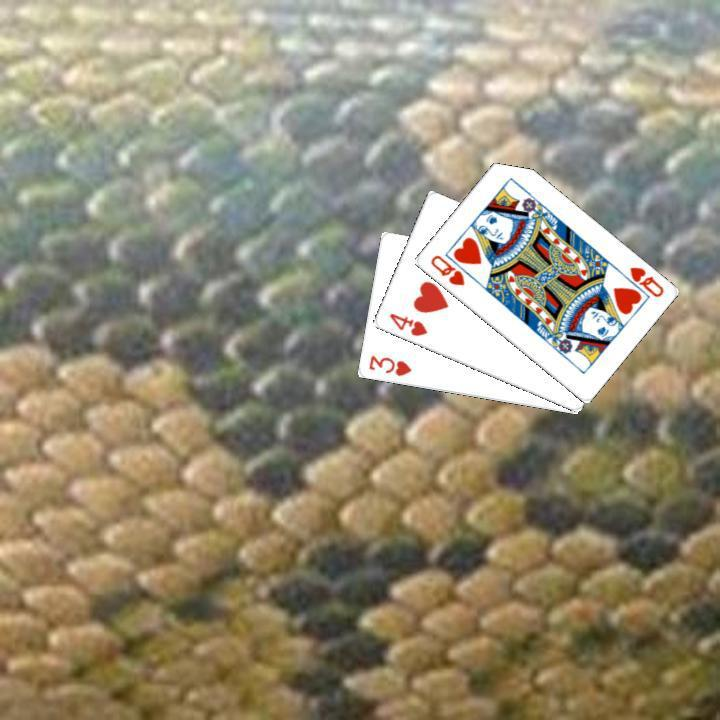3: (364, 351, 413, 378)
4: (384, 309, 429, 338)
Q: (614, 262, 665, 301), (426, 251, 466, 288)
